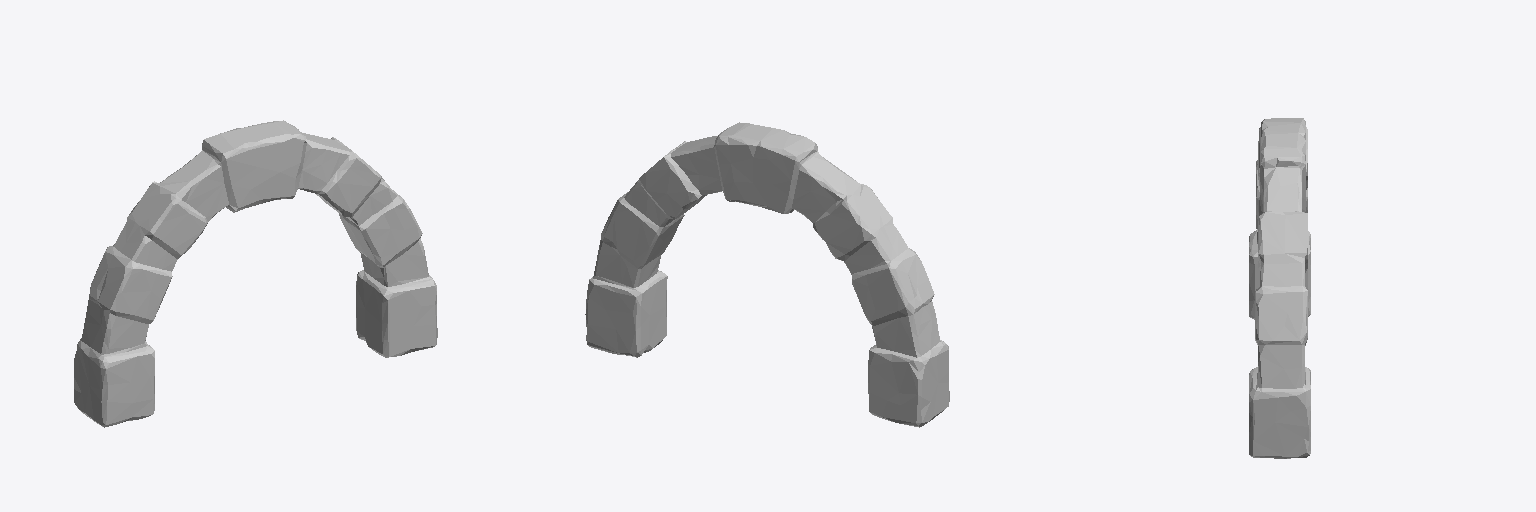
Rendered from archway_3.obj.
3 renders of one model, left to right at view 1: azimuth 30°, elevation 25°; view 2: azimuth 150°, elevation 25°; view 3: azimuth 270°, elevation 25°, orthographic.
Size of the model in its own units: 1 by 0.6938 by 0.1619.